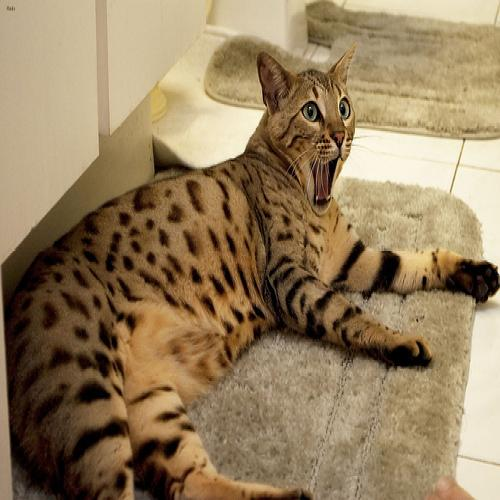cat-face: (254, 49, 371, 222)
